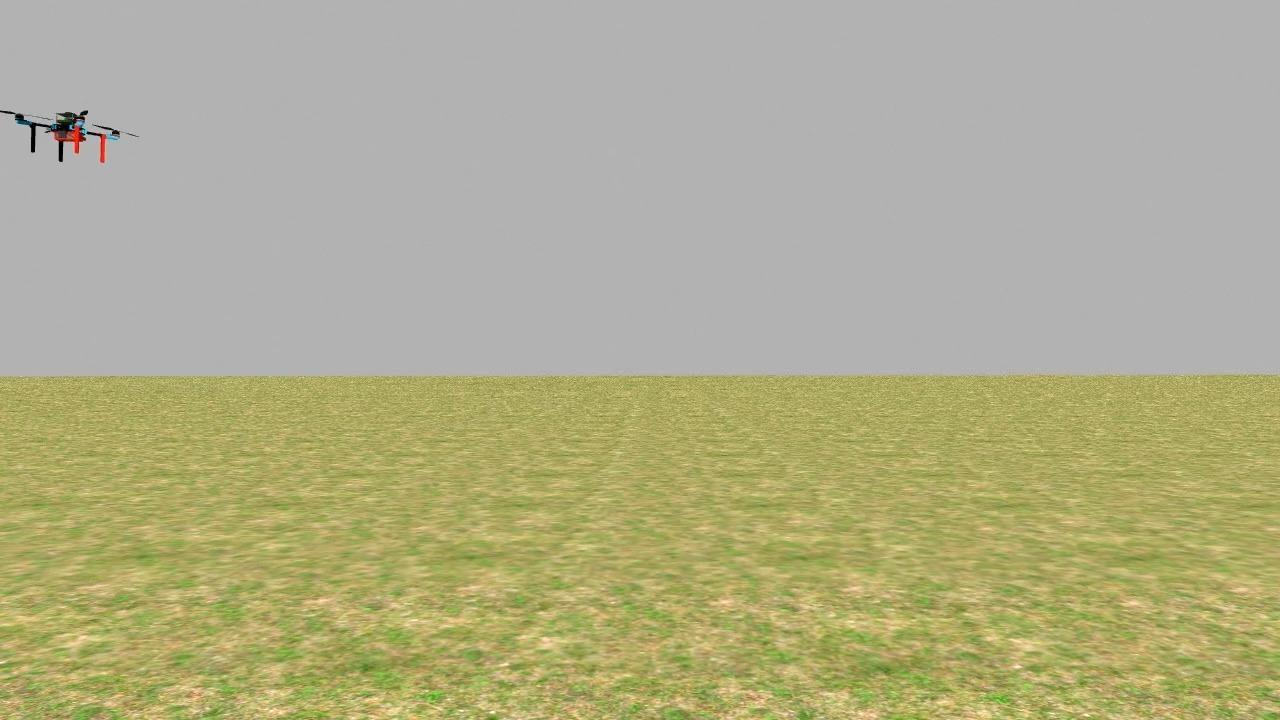UAV: (0, 87, 146, 178)
